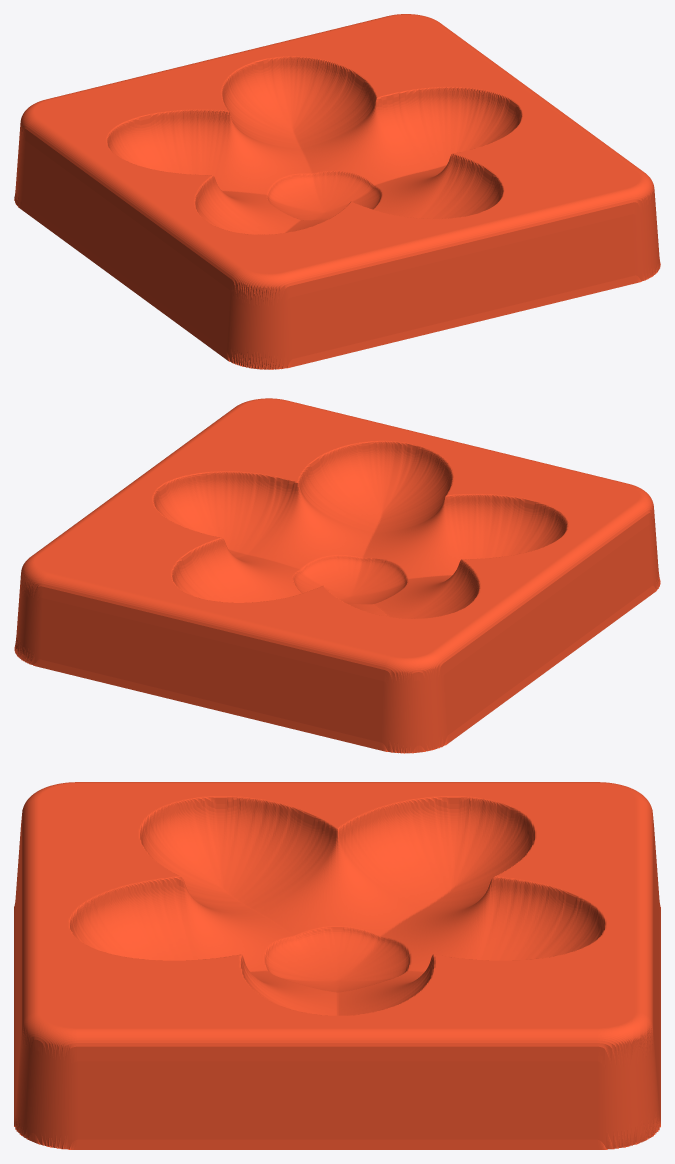
The model's file is mold.glb.
3 views of the same model, one above another, from view 1: azimuth 30°, elevation 25°; view 2: azimuth 150°, elevation 25°; view 3: azimuth 270°, elevation 25° (orthographic). The views are drawn at different scales.
Visible parts, largest first — view 1: geometry_0; view 2: geometry_0; view 3: geometry_0.
Part boxes in pixels (left/top/right/bottom): geometry_0: left=14, top=14, right=660, bottom=369; geometry_0: left=14, top=398, right=660, bottom=753; geometry_0: left=14, top=782, right=660, bottom=1149.
Bounding box in the file's own units: 0.0898 × 0.0175 × 0.0924.
